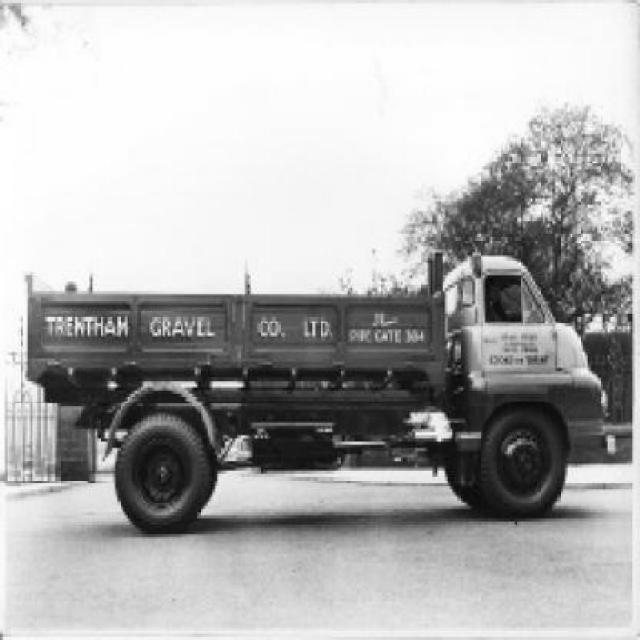Truck- 2-Axle: (26, 254, 607, 537)
